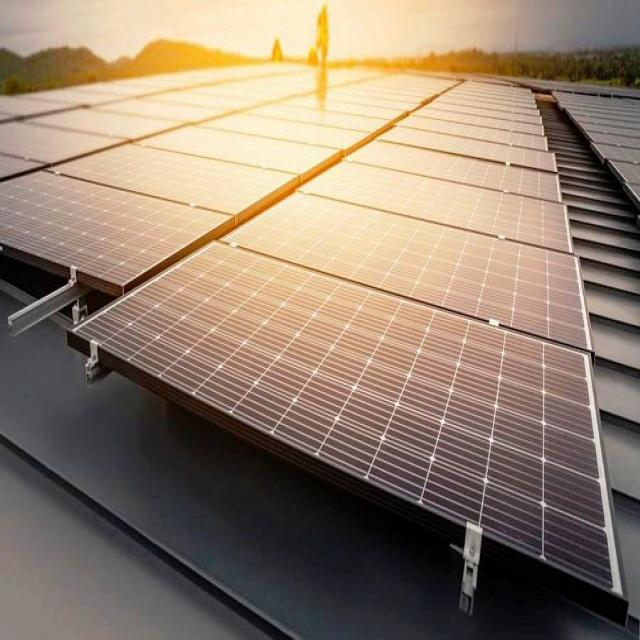no faulty: (70, 240, 630, 616), (217, 177, 608, 354), (1, 166, 238, 296), (304, 151, 566, 226), (56, 136, 296, 212), (179, 115, 334, 176)
